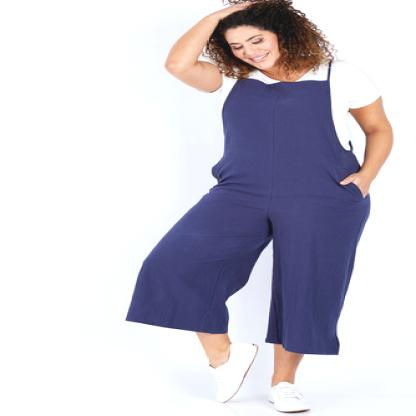dress: (126, 44, 388, 362)
jean: (111, 0, 412, 415)
